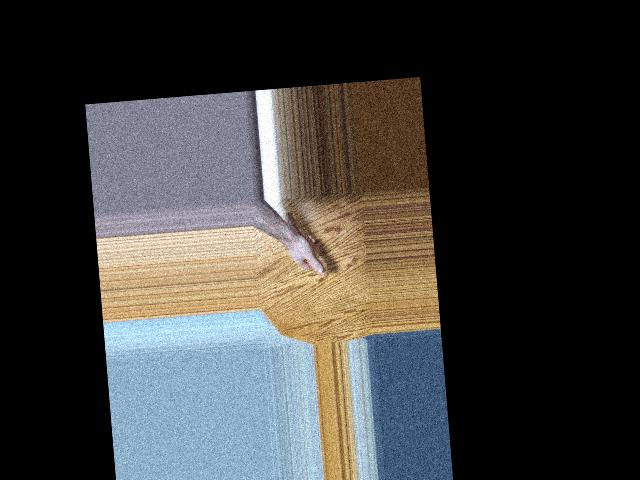sweet_potato: (282, 197, 329, 281)
